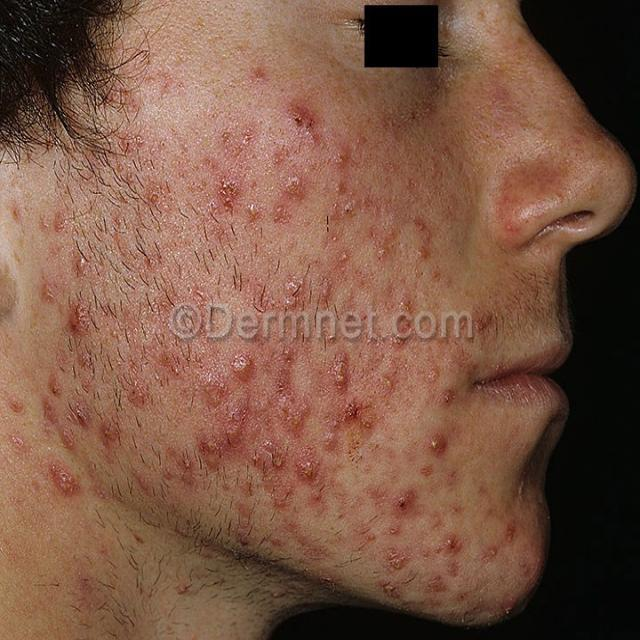acne: (380, 380, 488, 522), (78, 209, 206, 318), (367, 504, 471, 614), (315, 343, 396, 465), (194, 168, 282, 262), (354, 218, 432, 318), (266, 250, 346, 338), (50, 274, 93, 430), (140, 330, 230, 402), (246, 448, 336, 512), (221, 324, 291, 402), (264, 92, 332, 160), (256, 165, 328, 229), (184, 418, 244, 486)
